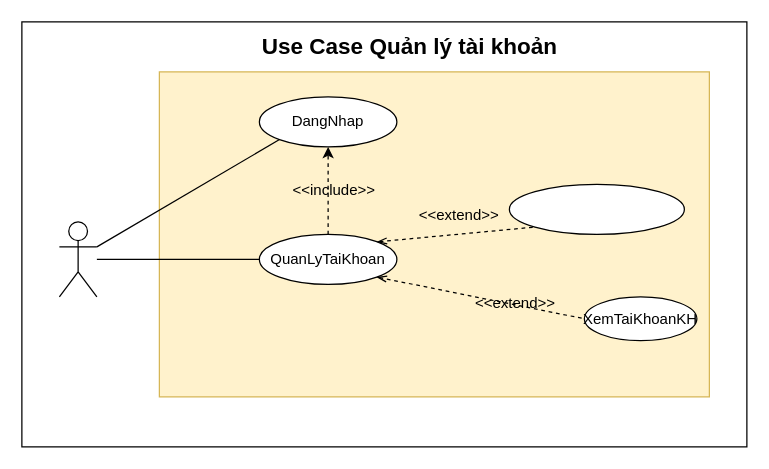
This 769x469 diagram has some shape labels left out. The box of each missing label's shape, as (x1, y1, x2, y2) in pixels:
NhanVien: (58, 221, 97, 297)
XemTaiKhoanNhanVien: (508, 183, 684, 234)
